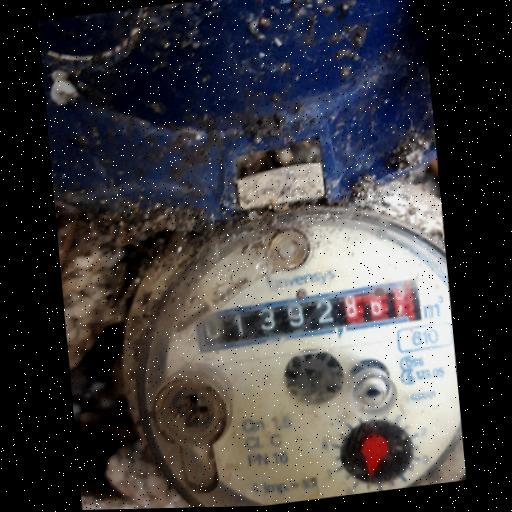0: (199, 311, 229, 346)
1: (225, 307, 252, 341)
2: (313, 293, 340, 329)
3: (389, 283, 415, 320), (254, 303, 281, 338)
6: (366, 286, 390, 321)
8: (340, 290, 365, 326)
9: (282, 298, 308, 334)
border_water_meter_number: (194, 276, 424, 355)
